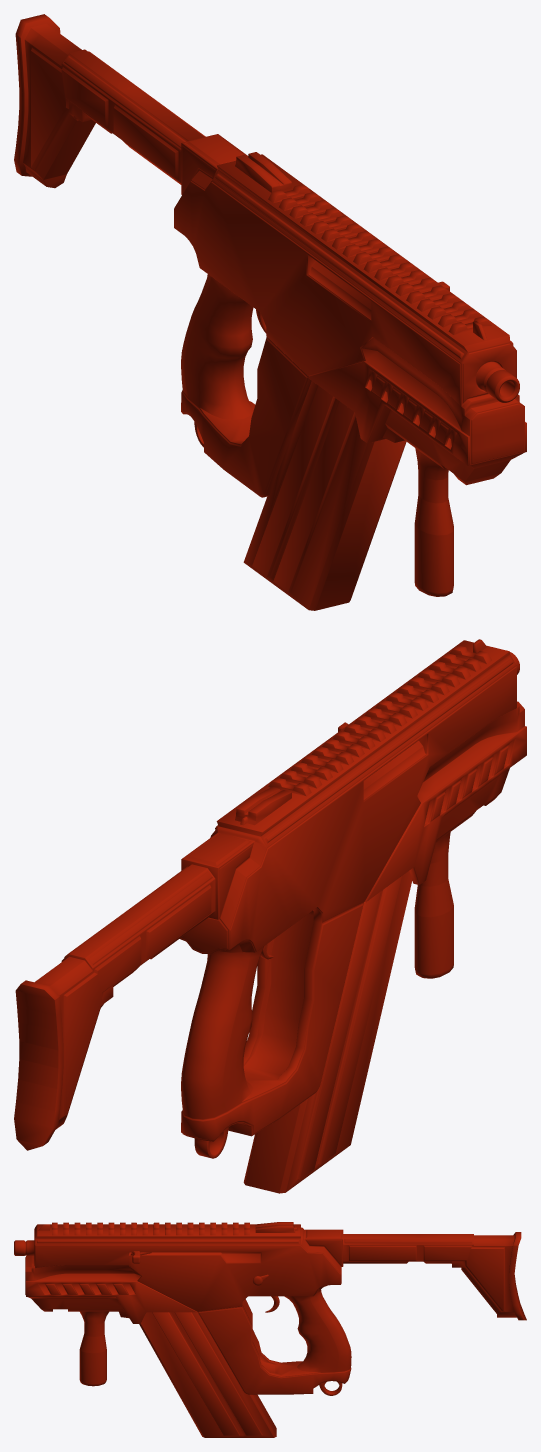
File: weapon2.obj
3 renders of one model, top to bottom at view 1: azimuth 30°, elevation 25°; view 2: azimuth 150°, elevation 25°; view 3: azimuth 270°, elevation 25°, orthographic. The views are drawn at different scales.
Parts seen in each view (by area): view 1: smg_low_Plane; view 2: smg_low_Plane; view 3: smg_low_Plane.
Boxes of the visible parts, left/top/right/bottom form: smg_low_Plane: left=14, top=14, right=526, bottom=610; smg_low_Plane: left=14, top=639, right=526, bottom=1193; smg_low_Plane: left=14, top=1222, right=526, bottom=1437.
Size of the model in its own units: 8.42 by 37.48 by 83.66.
